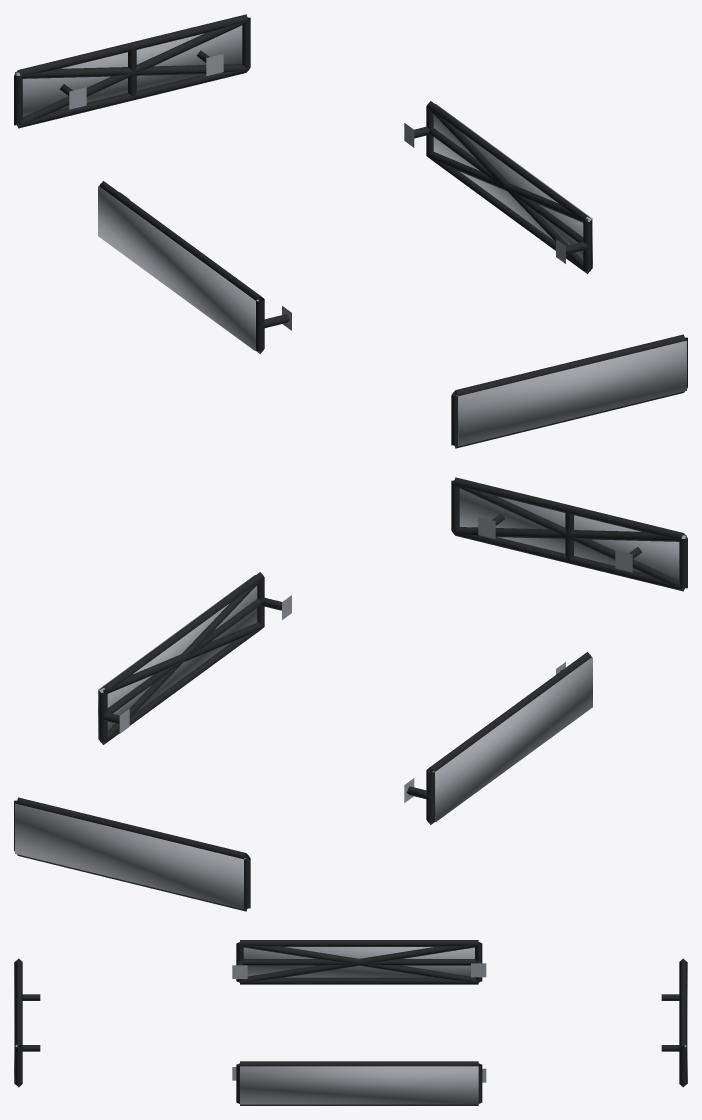
The model's file is wexmoor_moenda_protecao.glb.
3 views of the same model, one above another, from view 1: azimuth 30°, elevation 25°; view 2: azimuth 150°, elevation 25°; view 3: azimuth 270°, elevation 25° (orthographic). The views are drawn at different scales.
Visible parts, largest first — view 1: Protection_front_Level3_Details, Protection_left_Level3_Details, Protection_rear_Level1_Details, Protection_rear_Level3_Details, Protection_right_Level1_Details, Protection_rear_Level2_Details, Protection_right_Level2_Details, Protection_right_Level3_Details, Protection_front_Level1_Details, Protection_left_Level1_Details; view 2: Protection_rear_Level3_Details, Protection_left_Level3_Details, Protection_front_Level1_Details, Protection_front_Level3_Details, Protection_right_Level1_Details, Protection_front_Level2_Details, Protection_right_Level2_Details, Protection_right_Level3_Details, Protection_rear_Level1_Details, Protection_left_Level1_Details; view 3: Protection_right_Level3_Details, Protection_left_Level2_Details, Protection_left_Level1_Details, Protection_left_Level3_Details, Protection_right_Level1_Details, Protection_rear_Level1_Details, Protection_front_Level1_Details.
Part boxes in pixels (<box>): Protection_front_Level3_Details: <box>456,341,686,446</box>; Protection_left_Level3_Details: <box>98,186,258,350</box>; Protection_rear_Level1_Details: <box>14,14,250,128</box>; Protection_rear_Level3_Details: <box>15,25,242,116</box>; Protection_right_Level1_Details: <box>404,101,591,273</box>; Protection_rear_Level2_Details: <box>16,20,248,127</box>; Protection_right_Level2_Details: <box>427,107,590,273</box>; Protection_right_Level3_Details: <box>433,104,592,268</box>; Protection_front_Level1_Details: <box>451,334,687,448</box>; Protection_left_Level1_Details: <box>99,181,291,353</box>; Protection_rear_Level3_Details: <box>15,804,245,909</box>; Protection_left_Level3_Details: <box>432,657,592,821</box>; Protection_front_Level1_Details: <box>451,477,687,591</box>; Protection_front_Level3_Details: <box>459,488,686,579</box>; Protection_right_Level1_Details: <box>99,572,291,744</box>; Protection_front_Level2_Details: <box>453,483,685,590</box>; Protection_right_Level2_Details: <box>100,578,263,744</box>; Protection_right_Level3_Details: <box>98,575,257,739</box>; Protection_rear_Level1_Details: <box>14,797,250,911</box>; Protection_left_Level1_Details: <box>404,652,591,824</box>; Protection_right_Level3_Details: <box>240,1066,478,1104</box>; Protection_left_Level2_Details: <box>239,943,478,982</box>; Protection_left_Level1_Details: <box>232,940,486,984</box>; Protection_left_Level3_Details: <box>243,947,474,977</box>; Protection_right_Level1_Details: <box>232,1061,486,1105</box>; Protection_rear_Level1_Details: <box>661,958,686,1087</box>; Protection_front_Level1_Details: <box>15,958,40,1087</box>.
Size of the model in its own units: 2.14 by 0.354 by 4.86.
1 material, 1 textured.
